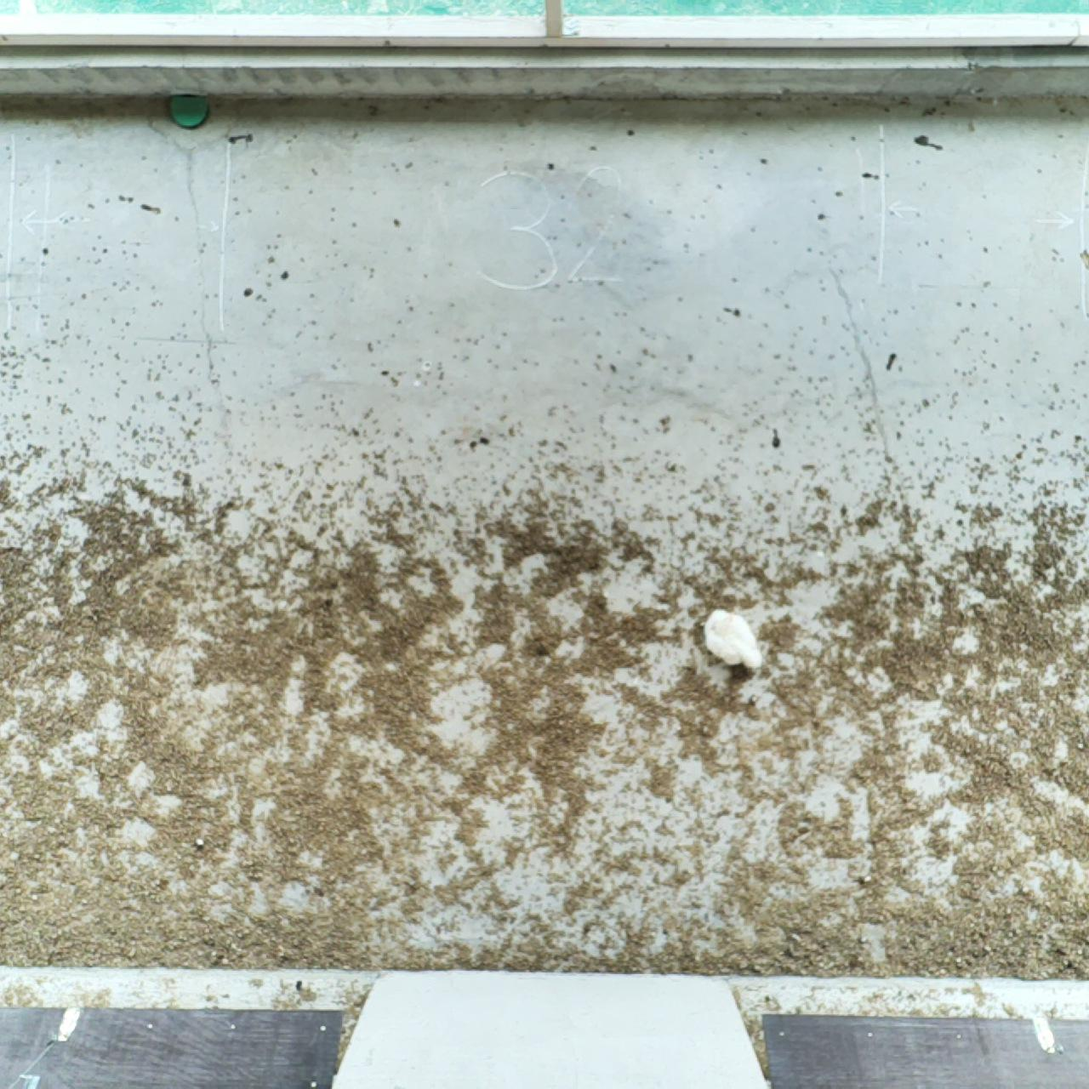chicken: (700, 601, 767, 677)
